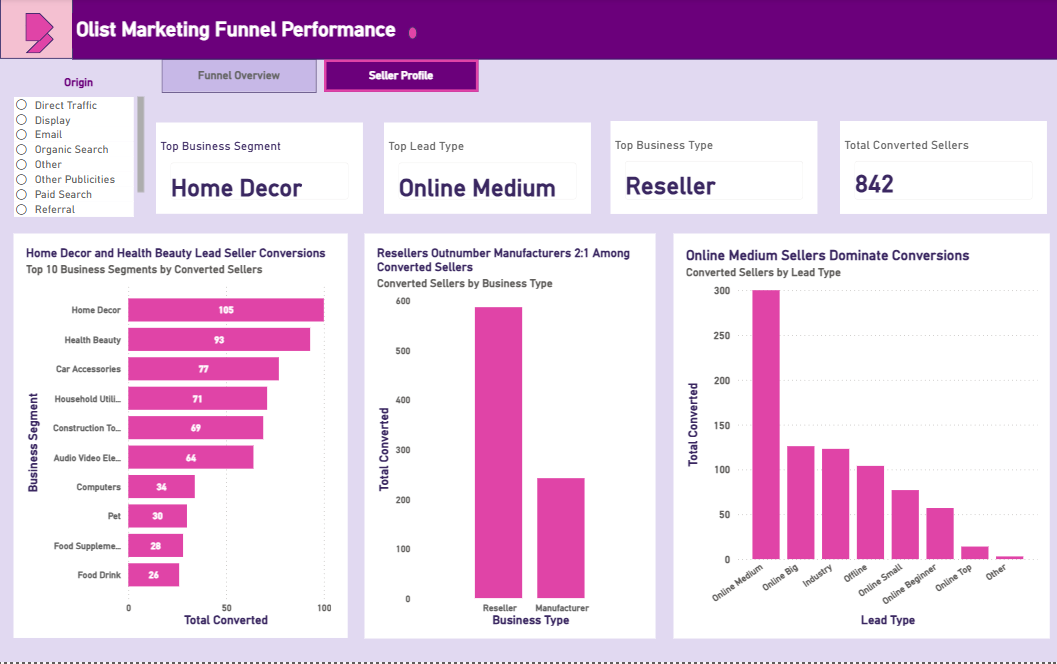

The page's visual inventory and layout, read from the dashboard file:
{"tool":"powerbi","page":{"name":"Seller Profile","canvas":[1280,800],"ordinal":1},"visuals":[{"type":"shape","title":"Olist E-Commerce Performance","box":[86.7,0,1192.8,74.1],"z":0},{"type":"shape","box":[31.4,32.1,34.2,34.2],"z":0,"group":"g1"},{"type":"shape","box":[0,0,87.8,73.2],"z":1000},{"type":"shape","box":[31.4,18.4,34.2,34.2],"z":1000,"group":"g1"},{"type":"textbox","box":[87.2,17.9,400.3,42.5],"z":2000},{"type":"shape","box":[492,33.5,11.2,15.7],"z":3000},{"type":"actionButton","box":[196,74.7,186.1,39.8],"z":4000},{"type":"actionButton","box":[391,74,186,39],"z":5000},{"type":"cardVisual","title":"Top Business Type","fields":{"Data":["olist_closed_deals_dataset.Top Business Type"]},"box":[735.9,147.5,249.4,112.1],"z":6000},{"type":"cardVisual","title":"Top Business Segment","fields":{"Data":["olist_closed_deals_dataset.Top Segment"]},"box":[188.3,149.3,249.4,110.2],"z":7000},{"type":"cardVisual","title":"Top Lead Type","fields":{"Data":["olist_closed_deals_dataset.Top Lead Type"]},"box":[463,149.3,249.4,110.2],"z":8000},{"type":"cardVisual","title":"Total Converted Sellers","fields":{"Data":["olist_closed_deals_dataset.Total Converted"]},"box":[1012.4,147.5,249.4,112.1],"z":9000},{"type":"clusteredColumnChart","title":"Resellers Outnumber Manufacturers 2:1 Among Converted Sellers","fields":{"Category":["olist_closed_deals_dataset.business_type"],"Y":["olist_closed_deals_dataset.Total Converted"]},"box":[439.2,283.7,350.6,488],"z":10000},{"type":"clusteredColumnChart","title":"Online Medium Sellers Dominate Conversions","fields":{"Category":["olist_closed_deals_dataset.lead_type"],"Y":["olist_closed_deals_dataset.Total Converted"]},"box":[811.5,283.7,453.6,488],"z":11000},{"type":"group","id":"g1","title":"Group 2","box":[31.4,18.4,34.2,47.9],"z":12000},{"type":"clusteredBarChart","title":"Home Decor and Health Beauty Lead Seller Conversions","fields":{"Y":["olist_closed_deals_dataset.Total Converted"],"Category":["olist_closed_deals_dataset.business_segment"]},"box":[15.7,284,402.6,487.6],"z":13000},{"type":"listSlicer","title":"Origin","fields":{"Values":["olist_marketing_qualified_leads.origin"]},"box":[16.3,74.1,157.2,195.2],"z":14000}]}

Visuals, with their boxes in screenshot pixels (x1, y1, x2, y2), scaled from the page's 1280x800 canvas onto the 1057x664 screenshot:
"Olist E-Commerce Performance" shape: 72/0/1056/62
shape: 26/27/54/55
shape: 0/0/73/61
shape: 26/15/54/44
textbox: 72/15/403/50
shape: 406/28/416/41
actionButton: 162/62/316/95
actionButton: 323/61/476/94
"Top Business Type" cardVisual: 608/122/814/215
"Top Business Segment" cardVisual: 155/124/361/215
"Top Lead Type" cardVisual: 382/124/588/215
"Total Converted Sellers" cardVisual: 836/122/1042/215
"Resellers Outnumber Manufacturers 2:1 Among Converted Sellers" clusteredColumnChart: 363/235/652/641
"Online Medium Sellers Dominate Conversions" clusteredColumnChart: 670/235/1045/641
"Group 2" group: 26/15/54/55
"Home Decor and Health Beauty Lead Seller Conversions" clusteredBarChart: 13/236/345/640
"Origin" listSlicer: 13/62/143/224
